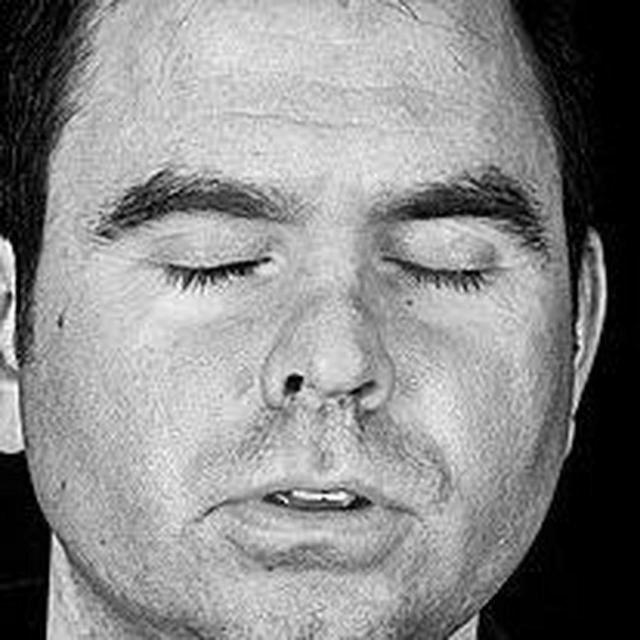real: (13, 0, 598, 640), (101, 177, 545, 331)
